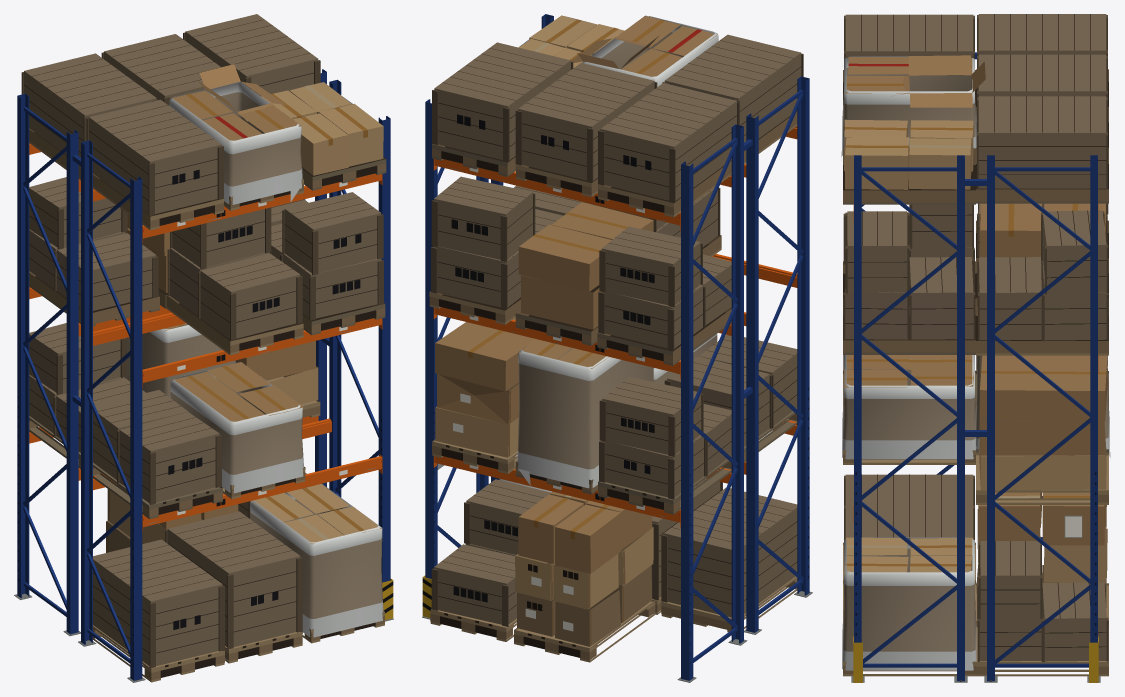
The model's file is rack@4.glb.
3 views of the same model, side by side, from view 1: azimuth 30°, elevation 25°; view 2: azimuth 150°, elevation 25°; view 3: azimuth 270°, elevation 25° (orthographic). The views are drawn at different scales.
Parts seen in each view (by area): view 1: rack15, rack0, rack21, rack17, rack20, rack14, rack25, rack8, rack16, rack13, rack12, rack26 (+2 smaller); view 2: rack15, rack0, rack25, rack14, rack17, rack21, rack16, rack8, rack13, rack12, rack22, rack20 (+5 smaller); view 3: rack15, rack25, rack0, rack17, rack21, rack20, rack13, rack14, rack16, rack12, rack19, rack26 (+2 smaller).
Part boxes in pixels (left/top/right/bottom): rack15: left=24, top=14, right=381, bottom=665; rack0: left=17, top=69, right=390, bottom=680; rack21: left=125, top=92, right=382, bottom=618; rack17: left=108, top=82, right=383, bottom=544; rack20: left=150, top=81, right=383, bottom=637; rack14: left=24, top=19, right=377, bottom=677; rack25: left=117, top=64, right=315, bottom=529; rack8: left=29, top=143, right=382, bottom=532; rack16: left=21, top=32, right=383, bottom=668; rack13: left=29, top=128, right=386, bottom=680; rack12: left=29, top=141, right=384, bottom=682; rack26: left=29, top=159, right=386, bottom=519; rack15: left=433, top=34, right=801, bottom=624; rack0: left=425, top=14, right=809, bottom=680; rack25: left=435, top=15, right=717, bottom=573; rack14: left=438, top=40, right=801, bottom=657; rack17: left=435, top=15, right=653, bottom=609; rack21: left=517, top=32, right=717, bottom=469; rack16: left=431, top=53, right=803, bottom=626; rack8: left=433, top=126, right=797, bottom=527; rack13: left=429, top=111, right=797, bottom=660; rack12: left=429, top=124, right=797, bottom=662; rack22: left=517, top=565, right=651, bottom=646; rack20: left=499, top=16, right=718, bottom=492; rack15: left=845, top=14, right=1106, bottom=661; rack25: left=844, top=55, right=1107, bottom=545; rack0: left=854, top=52, right=1097, bottom=681; rack17: left=844, top=119, right=1107, bottom=583; rack21: left=843, top=67, right=1108, bottom=651; rack20: left=841, top=56, right=1110, bottom=670; rack13: left=843, top=69, right=1108, bottom=674; rack14: left=843, top=14, right=1108, bottom=647; rack16: left=843, top=15, right=1108, bottom=662; rack12: left=843, top=353, right=1108, bottom=676; rack19: left=844, top=65, right=1106, bottom=566; rack26: left=843, top=201, right=1108, bottom=452.
Bounding box in the file's own units: 2.83 × 5.59 × 2.43.
